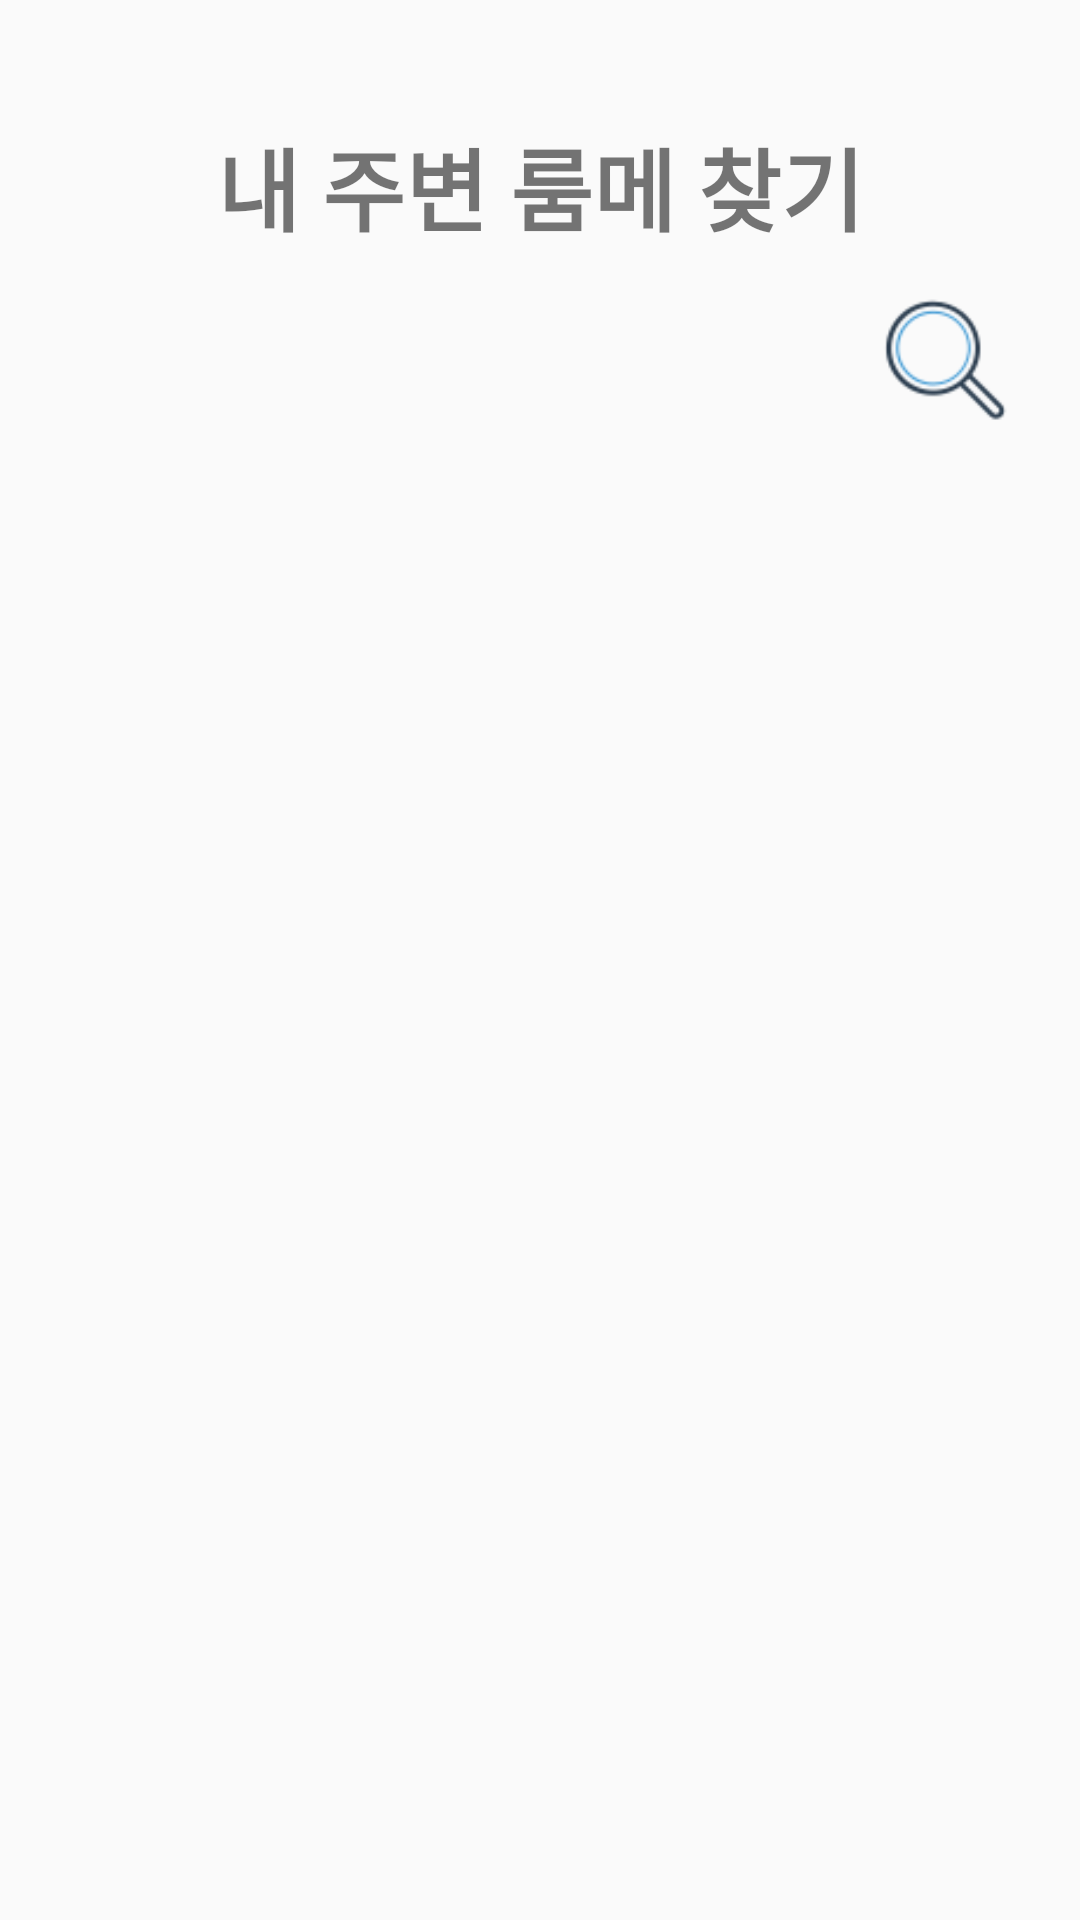

Screen size 1080 × 1920. Icon name, then its box in pixels as [x1=x1, y1=y1, x2=x2, y2=y2]:
glass: [x1=885, y1=300, x2=1005, y2=420]
